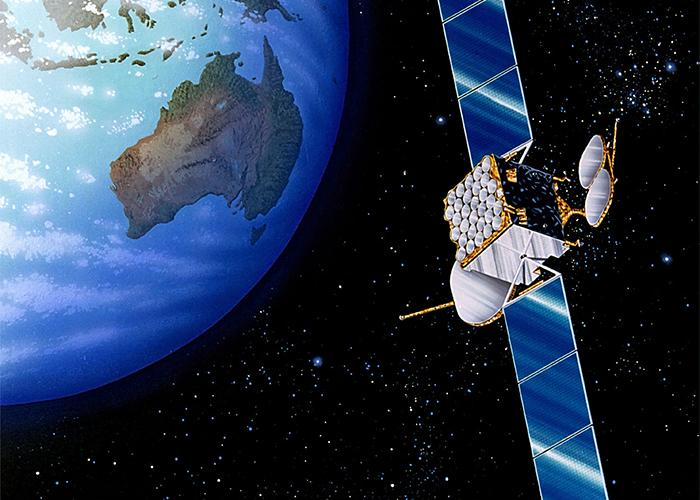antenna: (449, 250, 517, 328), (586, 166, 615, 228), (396, 298, 455, 324), (579, 134, 605, 189), (610, 116, 620, 174), (481, 156, 493, 173), (472, 165, 483, 182), (455, 246, 467, 261), (472, 180, 483, 196), (477, 201, 488, 217), (461, 204, 472, 220), (460, 218, 471, 234), (493, 201, 504, 216), (450, 226, 461, 241), (488, 179, 498, 195), (447, 191, 457, 207), (486, 194, 496, 210), (453, 198, 464, 212), (446, 205, 457, 219), (465, 174, 474, 191), (456, 182, 465, 199), (475, 231, 484, 248), (470, 196, 480, 211), (485, 209, 495, 224), (492, 215, 502, 230), (483, 224, 493, 239), (481, 172, 490, 188), (479, 187, 488, 203), (477, 216, 486, 232), (468, 224, 477, 240), (466, 239, 475, 255), (463, 189, 472, 204), (453, 212, 462, 227), (459, 232, 468, 247), (470, 210, 478, 225)
body: (443, 153, 575, 284)
solar: (502, 274, 609, 500), (436, 0, 534, 171)
